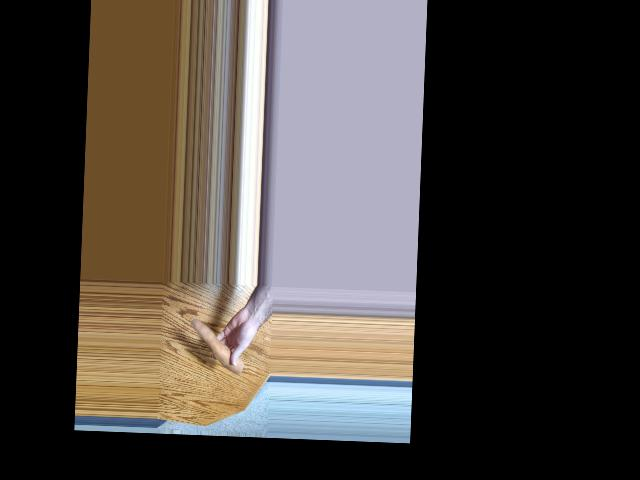sweet_potato: (190, 319, 246, 372)
